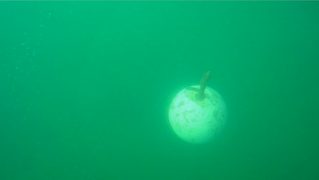buoy: (167, 84, 229, 145)
